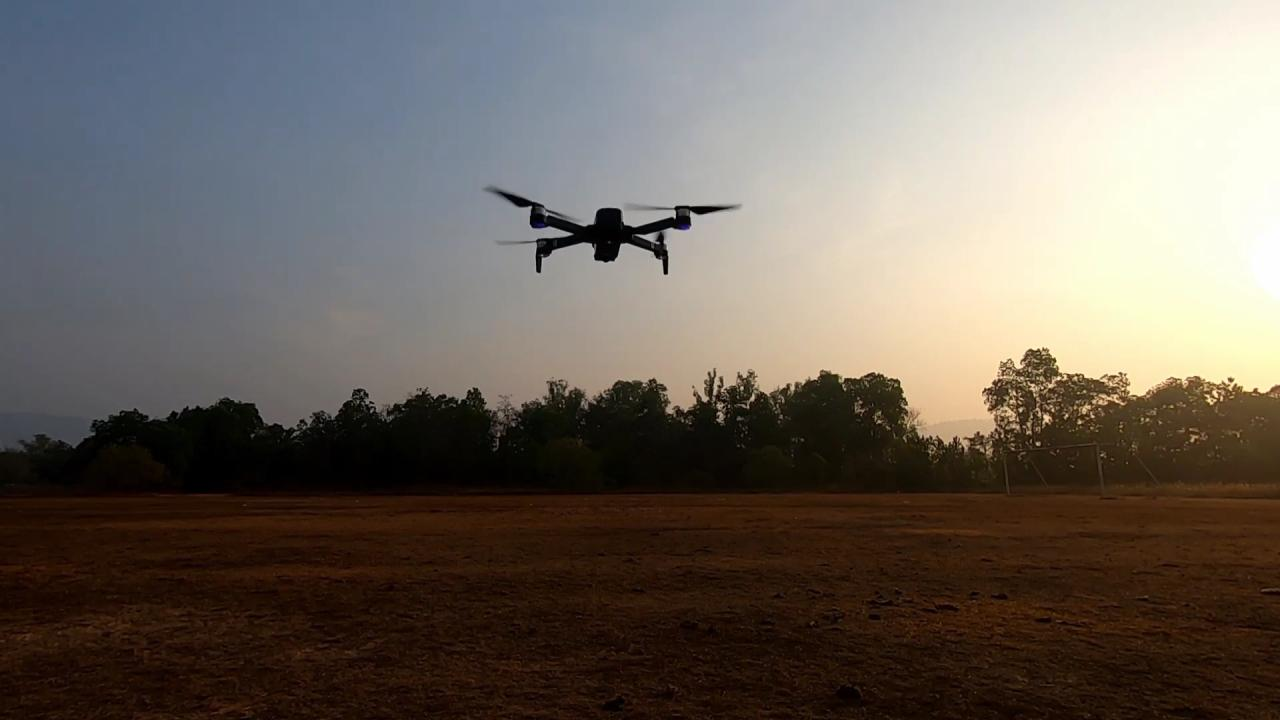Drone: (471, 169, 752, 287)
